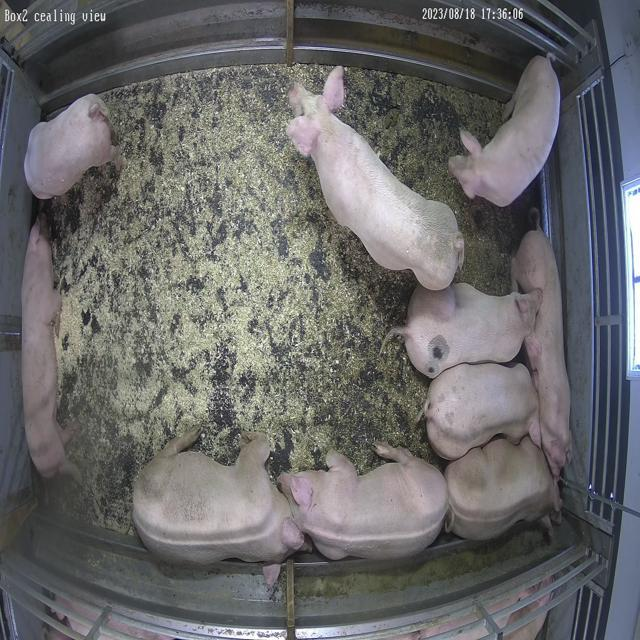Dirt: (338, 67, 526, 292), (329, 317, 437, 473)
Pig: (287, 66, 465, 290), (450, 55, 562, 206), (513, 229, 573, 482), (391, 283, 540, 378), (425, 364, 541, 460)
